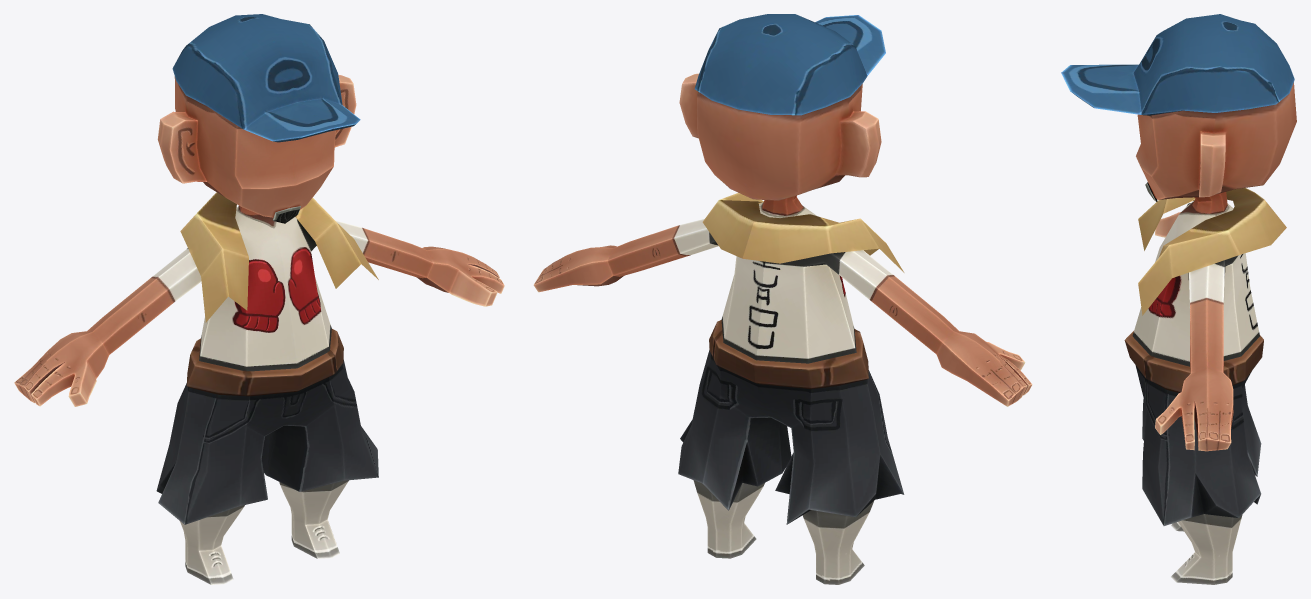
File: coach.glb
3 renders of one model, left to right at view 1: azimuth 30°, elevation 25°; view 2: azimuth 150°, elevation 25°; view 3: azimuth 270°, elevation 25°, orthographic. The views are drawn at different scales.
Visible parts, largest first — view 1: coach; view 2: coach; view 3: coach.
Part boxes in pixels (x1,y1,x2,y2): coach: (14, 14, 504, 584); coach: (533, 14, 1032, 584); coach: (1061, 14, 1296, 584).
Bounding box in the file's own units: 1.91 × 2.07 × 0.8348.
Materials: 1 (1 with a texture image).
